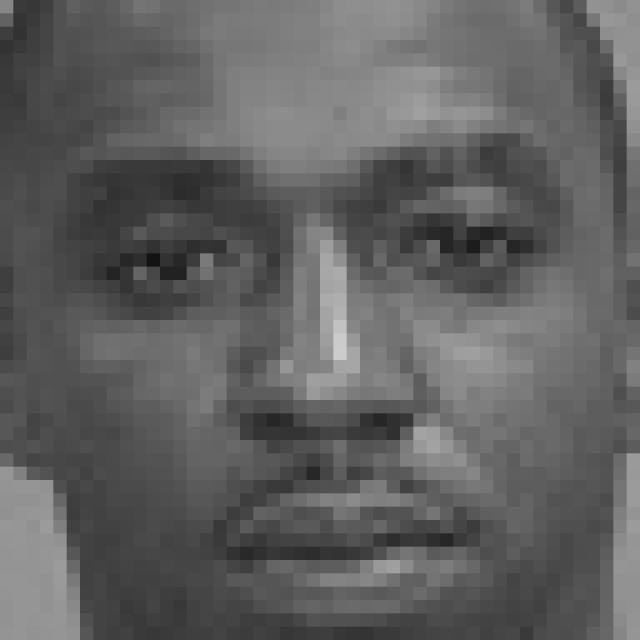neutral: (60, 117, 575, 640)
